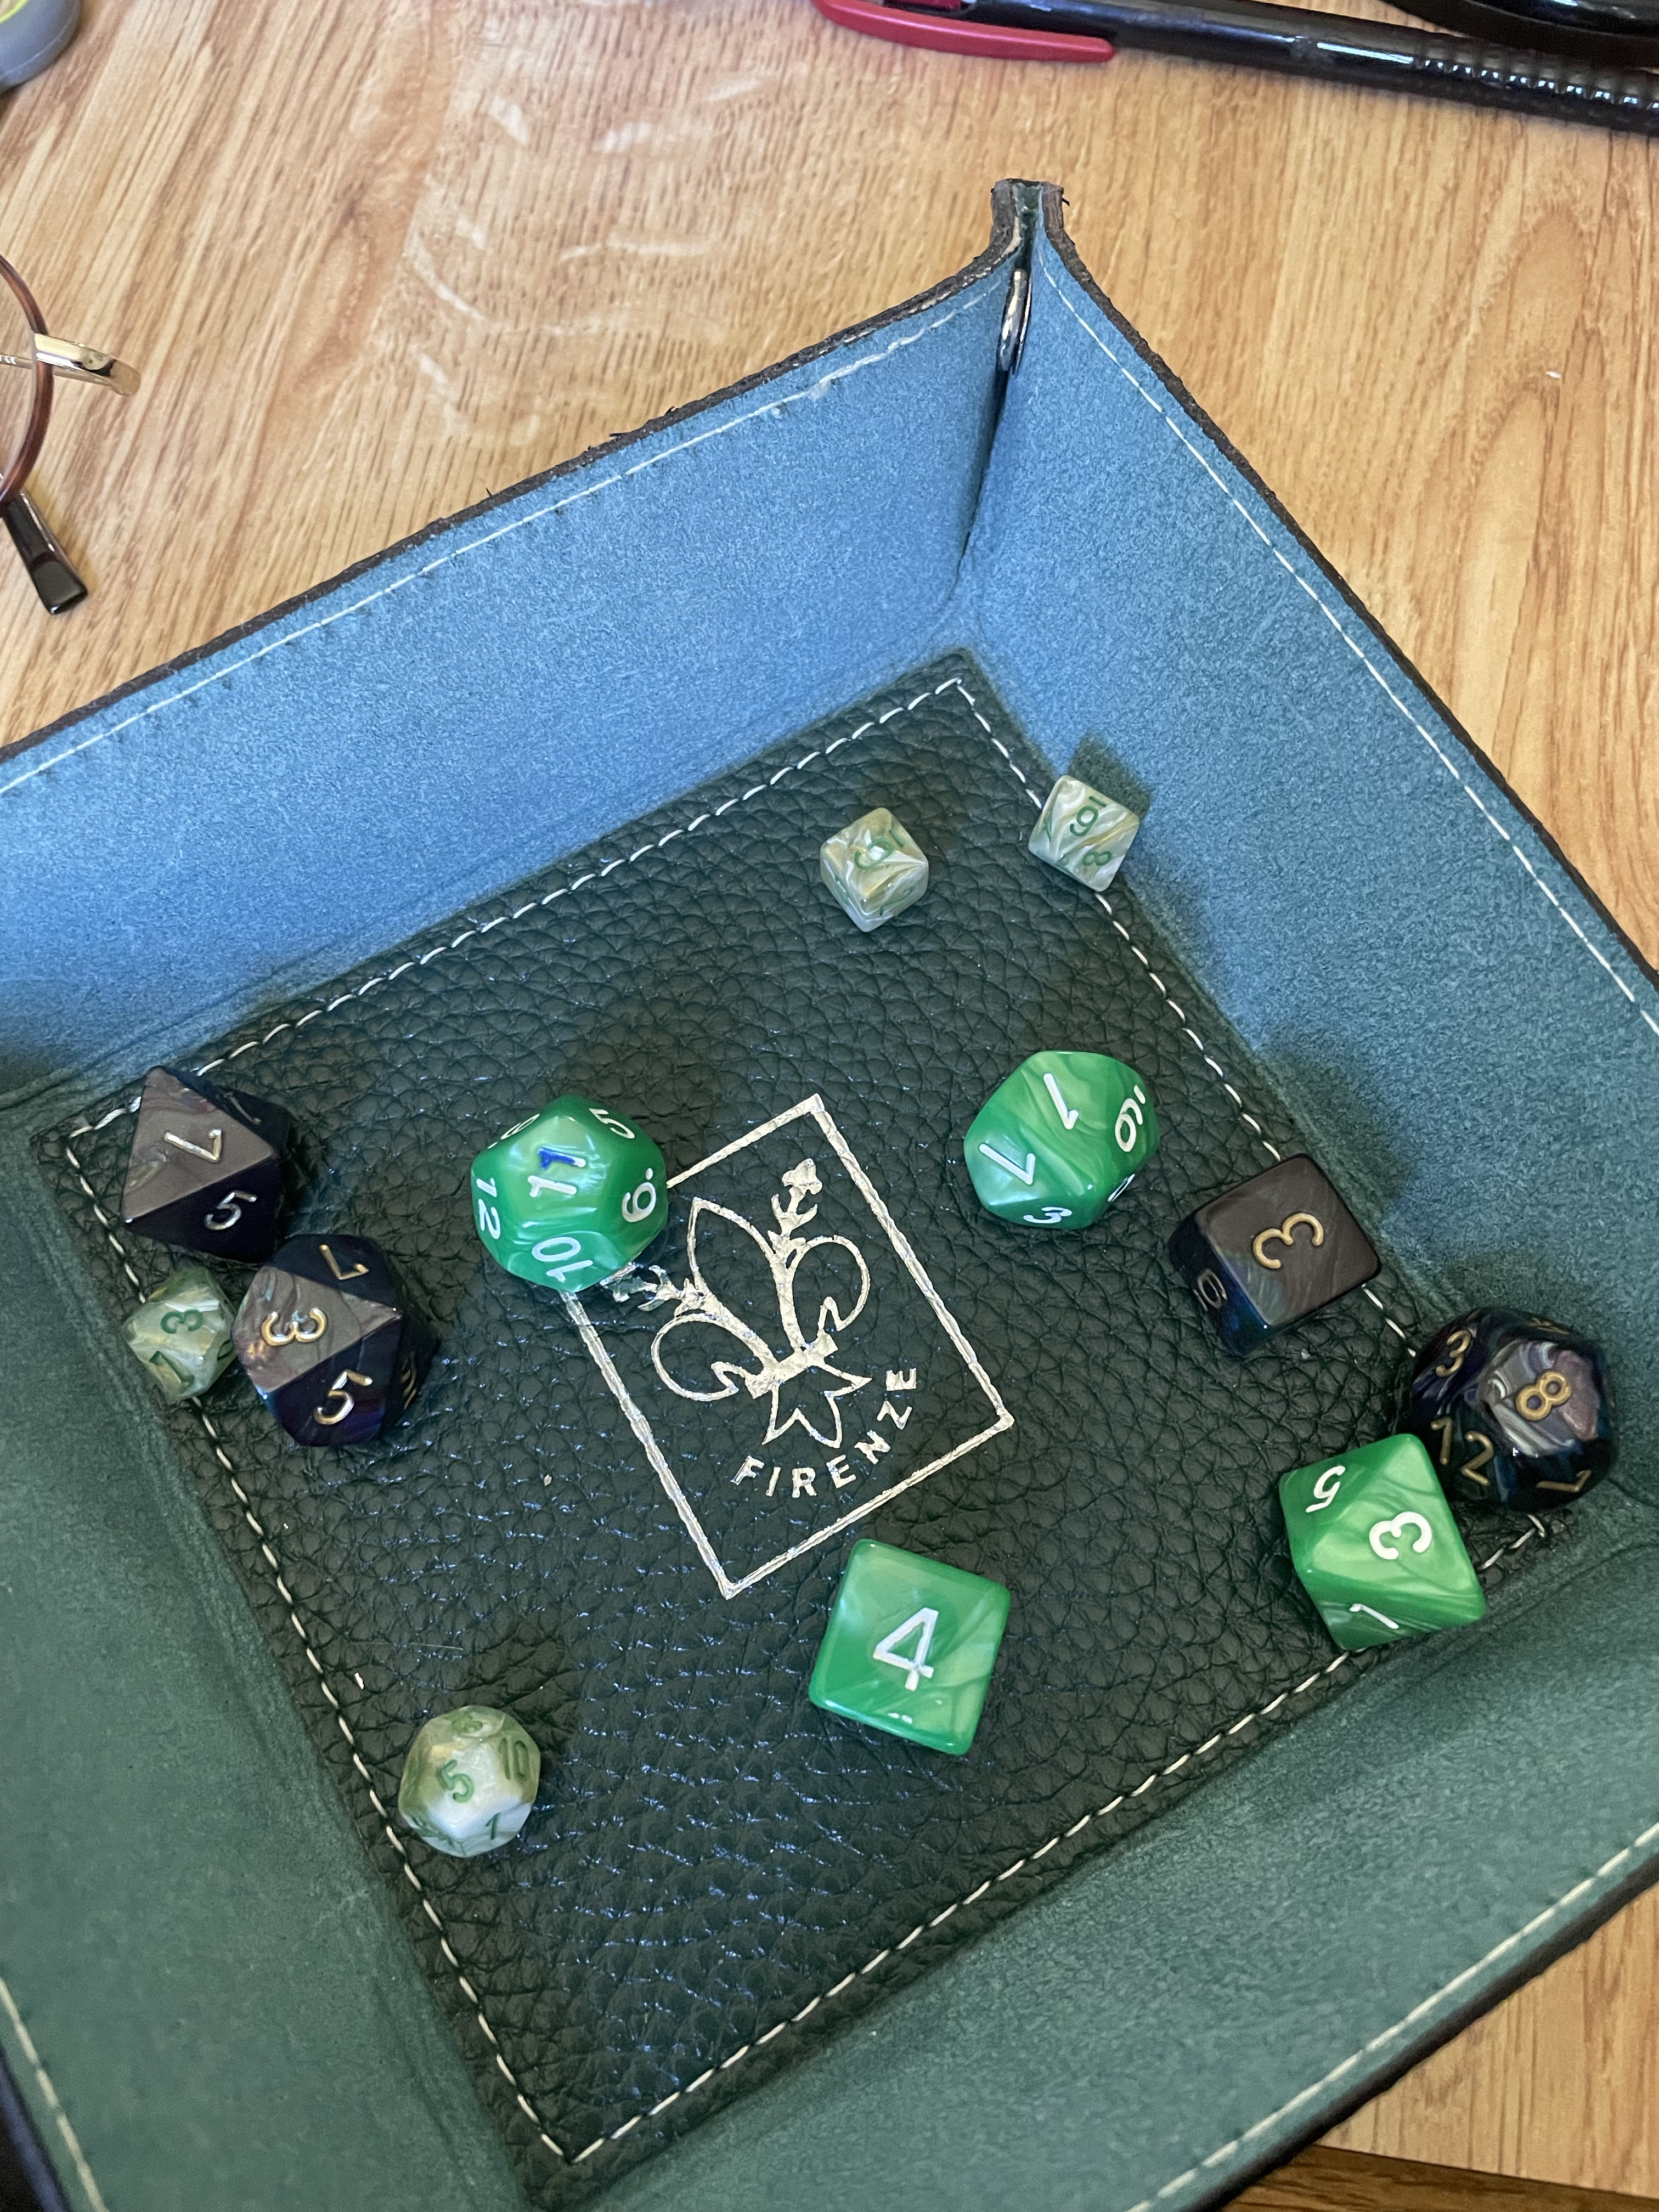eight: (1394, 1289, 1636, 1522)
eleven: (451, 1062, 687, 1315)
five: (380, 1693, 568, 1878)
four: (751, 1500, 1046, 1784)
one: (934, 1010, 1169, 1264)
seven: (89, 1036, 335, 1258)
six: (1002, 754, 1162, 942), (805, 803, 934, 934)
three: (1243, 1406, 1506, 1670), (232, 1221, 444, 1491), (1164, 1137, 1389, 1374), (85, 1263, 251, 1432)
